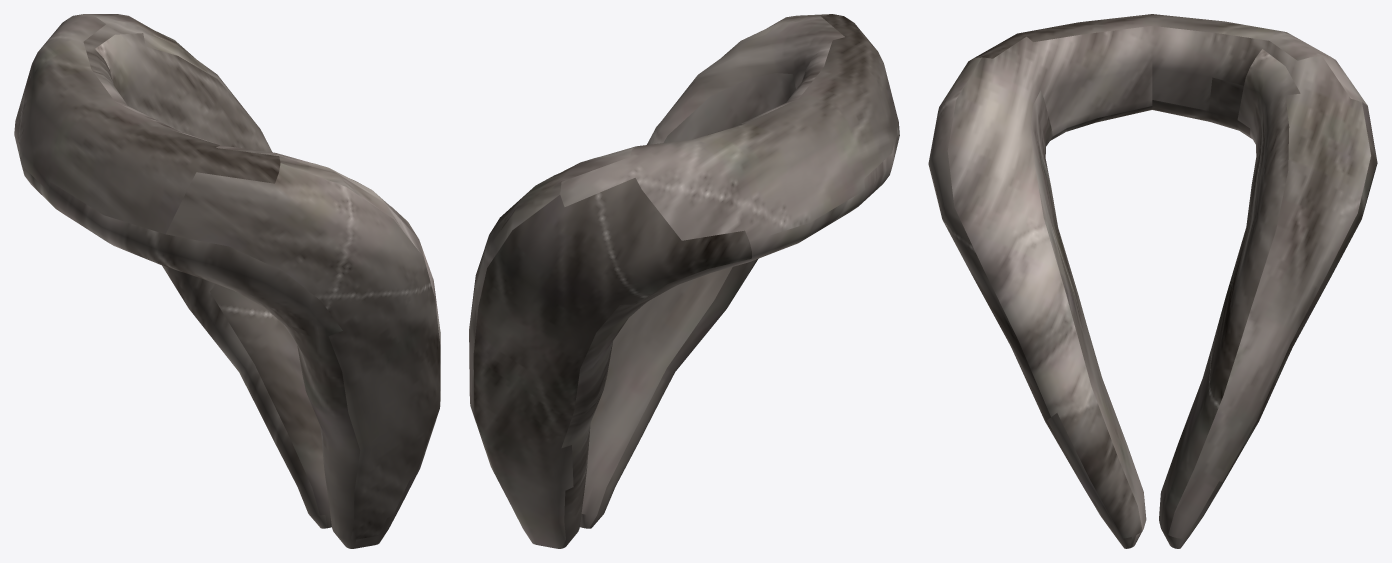
File: FoxScarf (1).fbx
3 renders of one model, left to right at view 1: azimuth 30°, elevation 25°; view 2: azimuth 150°, elevation 25°; view 3: azimuth 270°, elevation 25°, orthographic. The views are drawn at different scales.
Parts seen in each view (by area): view 1: FoxScarf; view 2: FoxScarf; view 3: FoxScarf.
Part boxes in pixels (bbox=[...]): FoxScarf: bbox=[14, 14, 440, 548]; FoxScarf: bbox=[469, 14, 899, 548]; FoxScarf: bbox=[928, 14, 1377, 548].
Size of the model in its own units: 105 by 146 by 141.
Materials: 1 (1 with a texture image).
